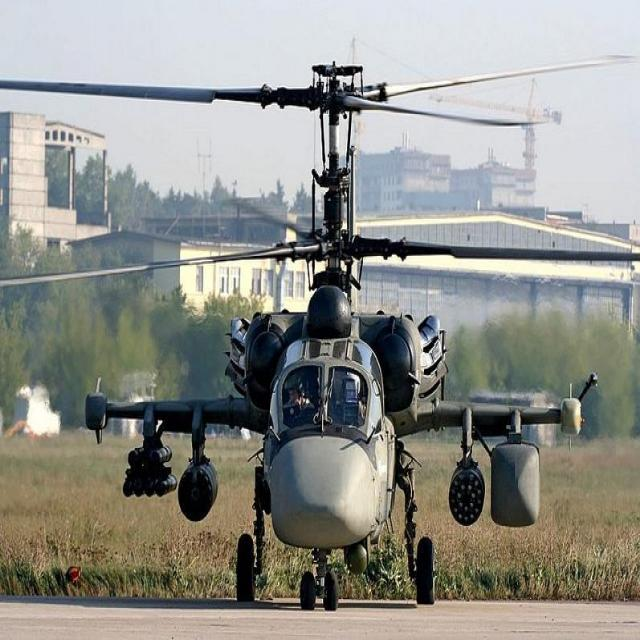MIL_HELO: (0, 59, 637, 607)
